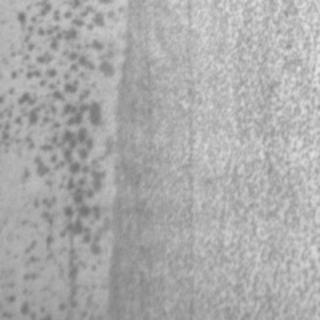pitted_surface: (122, 0, 318, 316), (2, 0, 106, 316)
